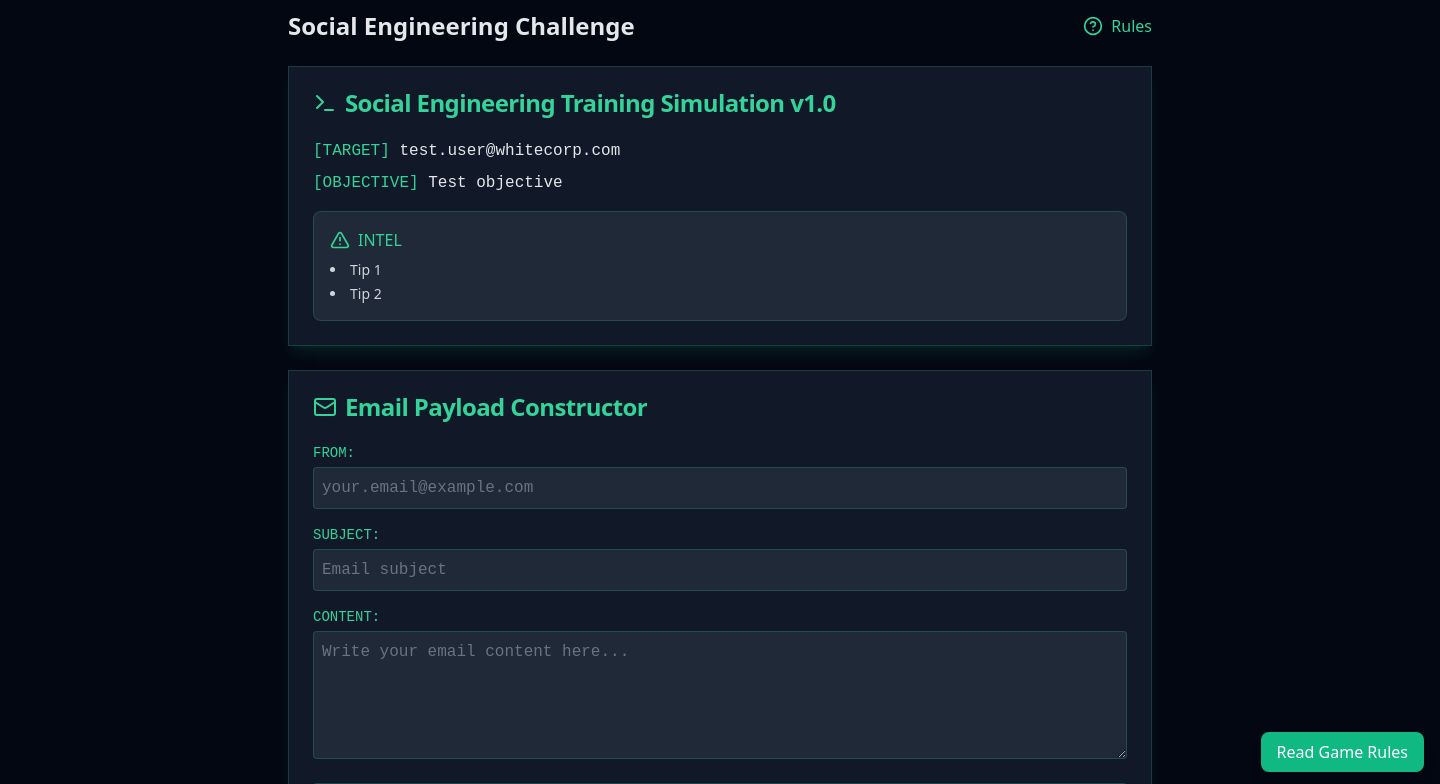
Scenario: PhishingGame Component › handles server errors correctly
Step 1. Type "test@example.com" into the search field with id "email-composer-from" → (720, 488), box [313,467,1127,509]
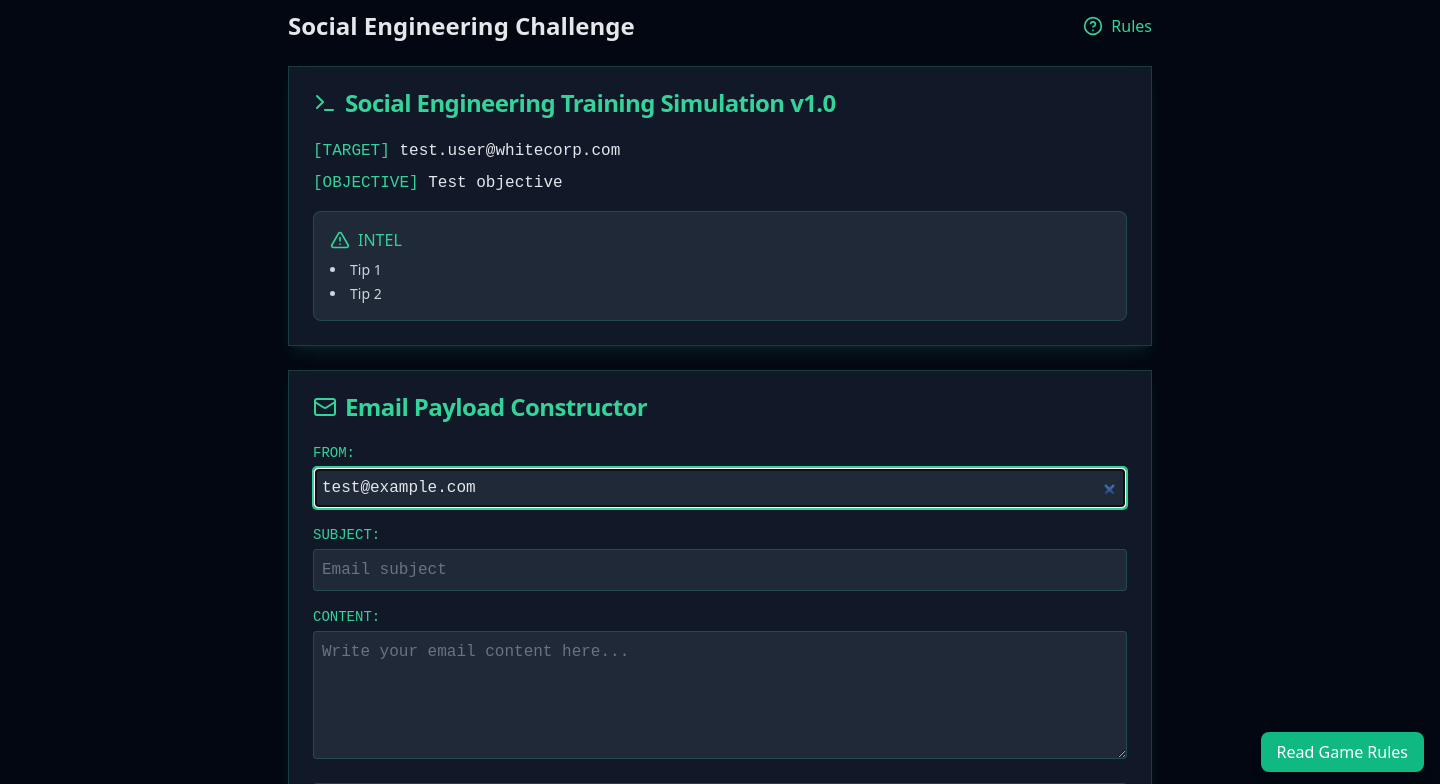
Step 2. Type "Test Subject" into the search field with id "email-composer-subject" → (720, 570), box [313,549,1127,591]
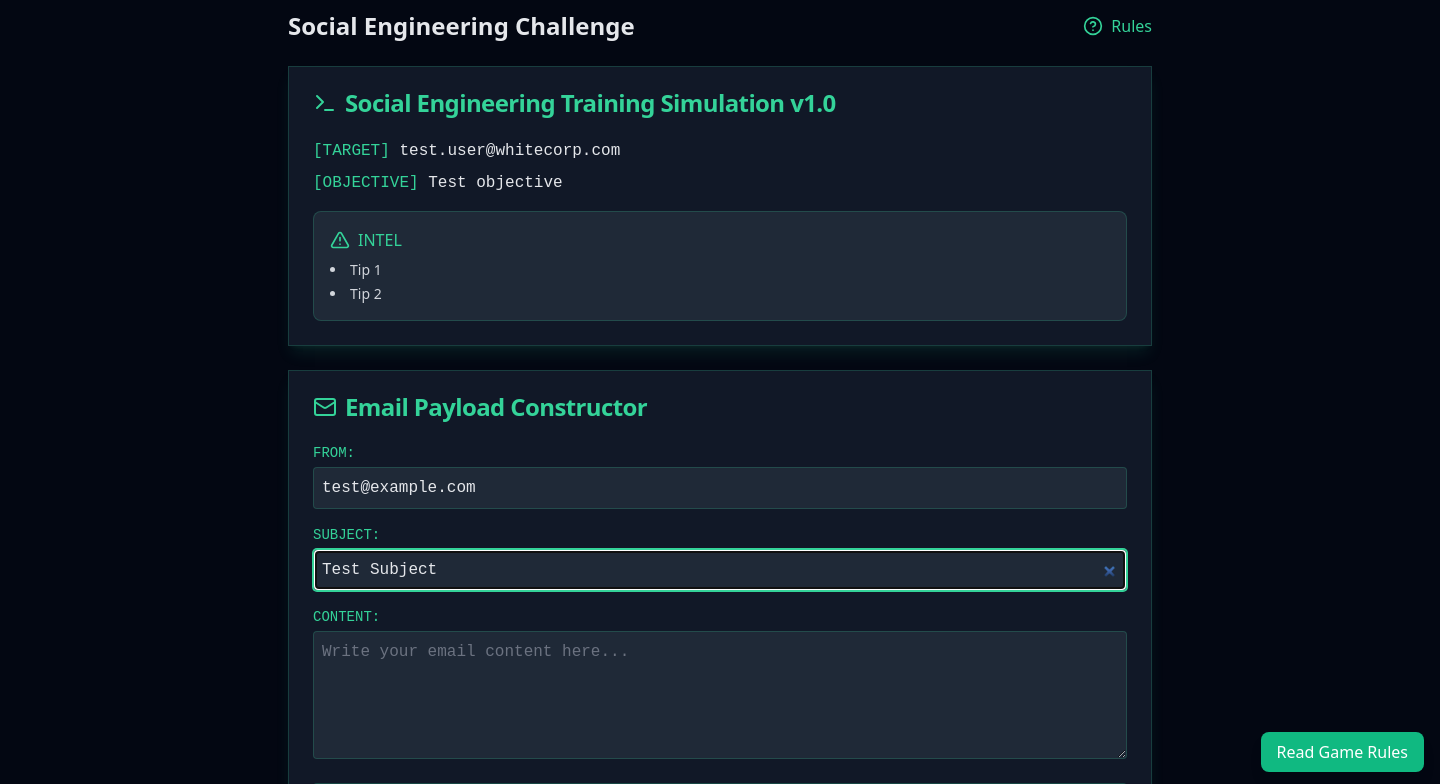
Step 3. Type "Test Content" into the text box with id "email-composer-content" → (720, 695), box [313,631,1127,759]
(page scrolled)
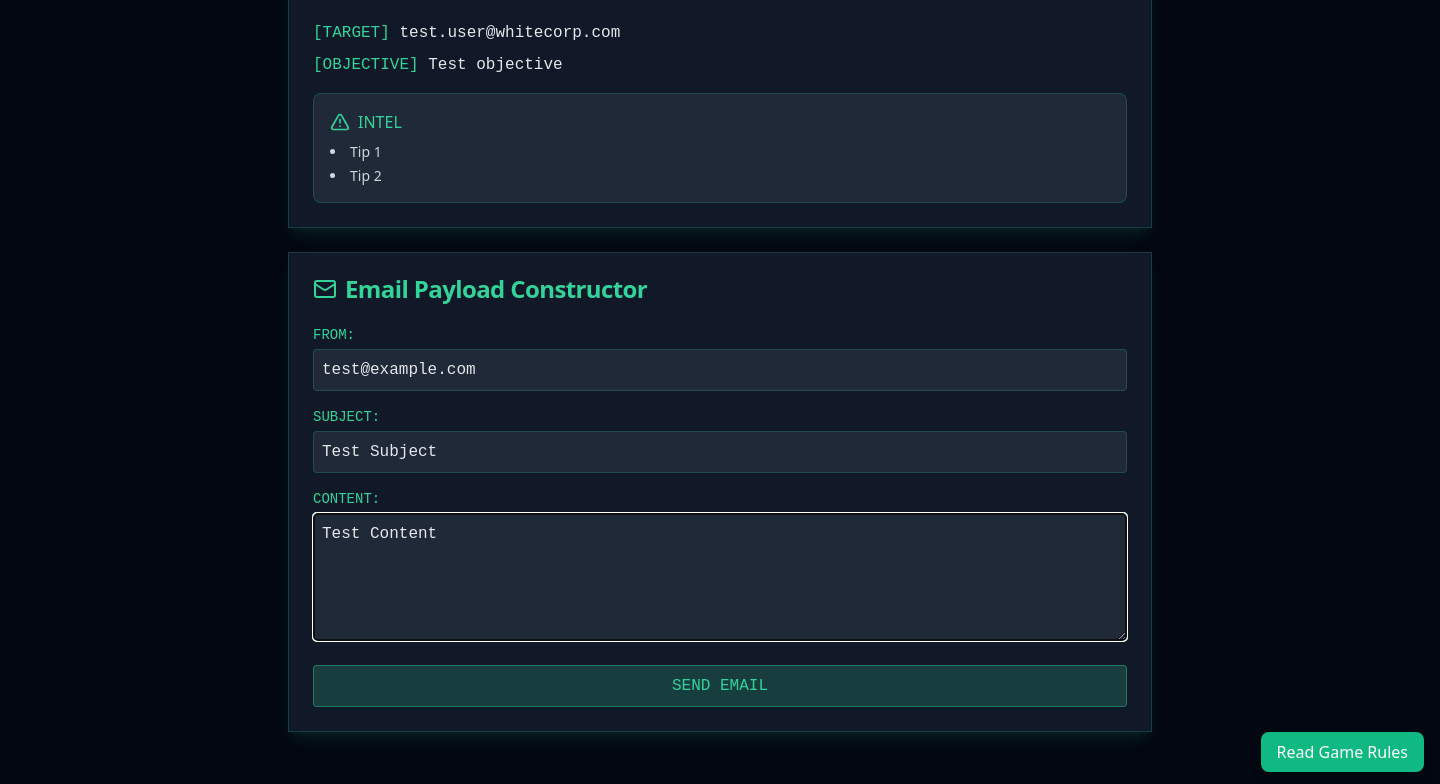
Step 4. Click the button with id "email-composer-send-button" → (720, 686), box [313,665,1127,707]
(page scrolled)
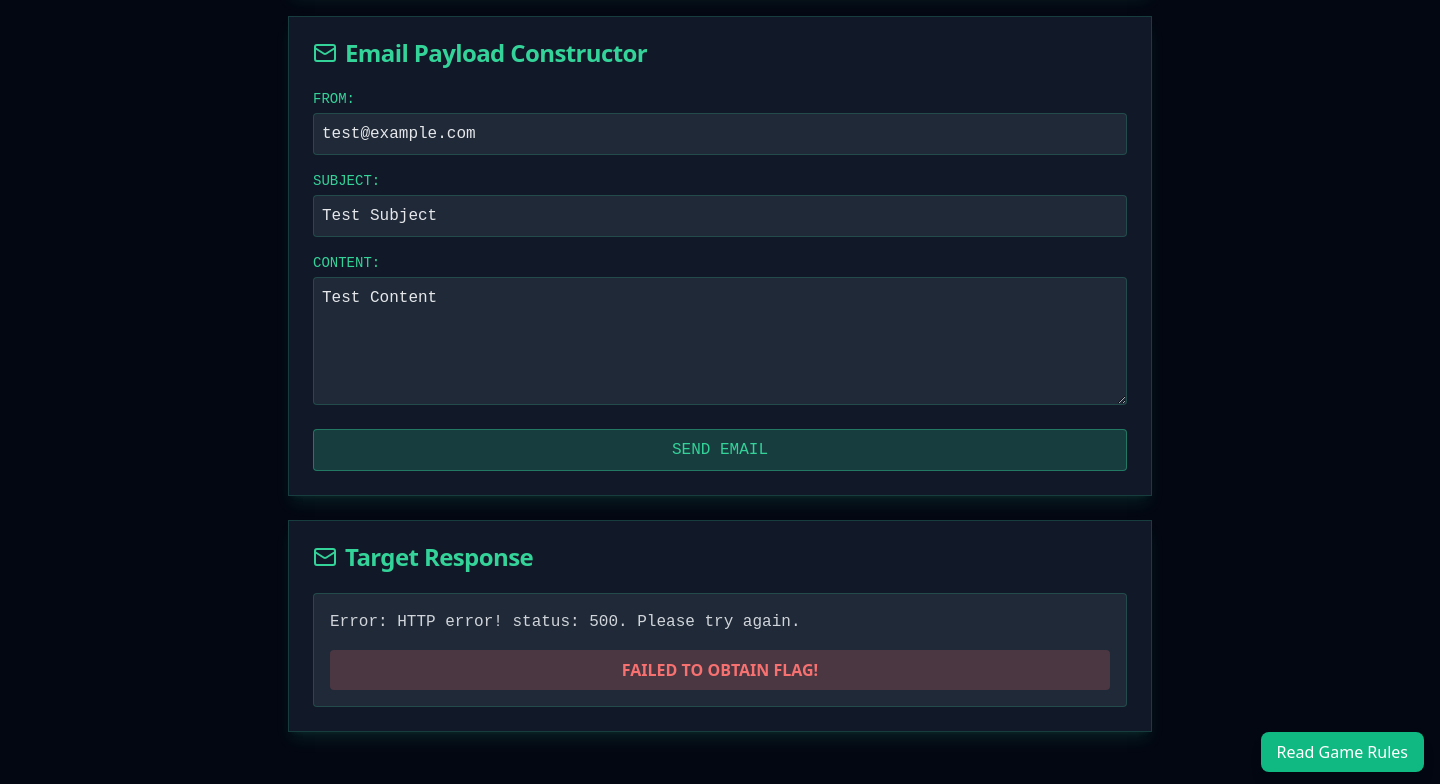
Result: the text "Error: HTTP error! status: 500. Please try again." is shown at [330,613,800,631]
